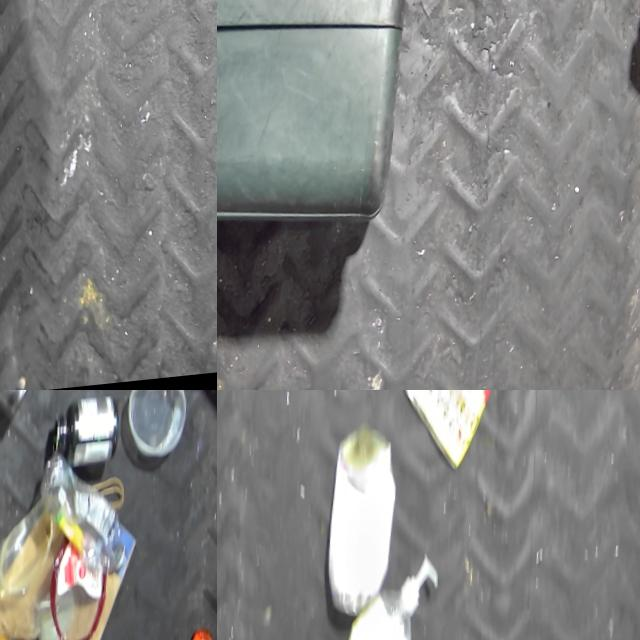can: (322, 422, 414, 631), (0, 390, 45, 432)
plastic_bottle: (39, 454, 140, 596)
